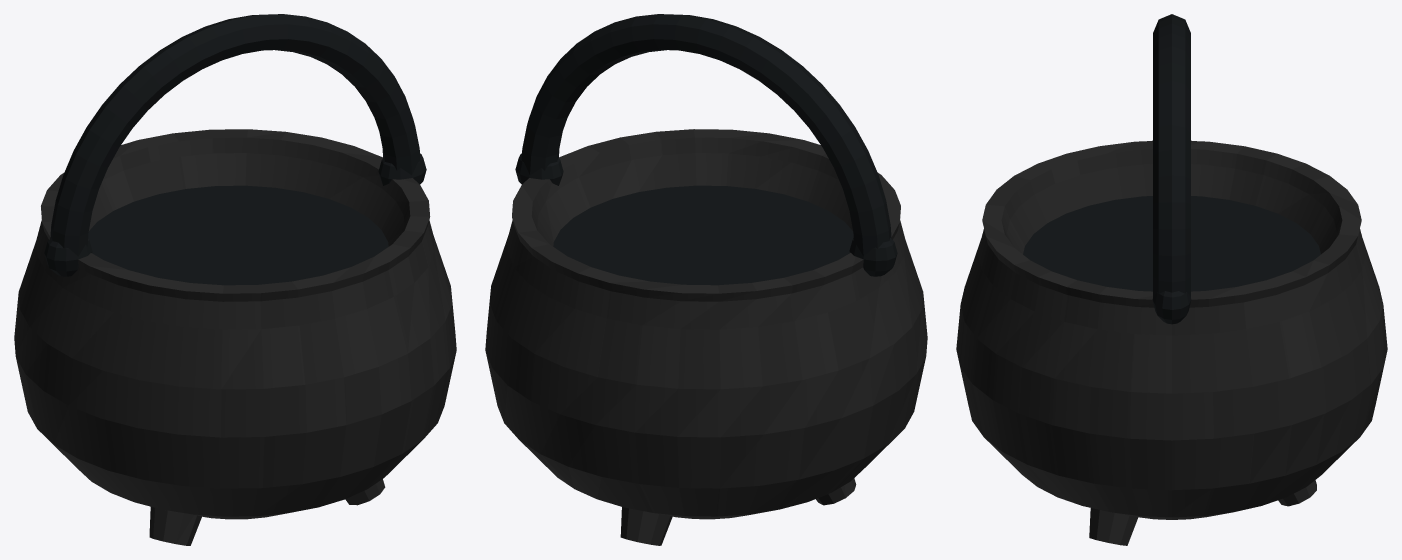
File: EVHalloween_WitchCauldron.fbx
The picture shows the model from 3 angles, left to right: view 1: azimuth 30°, elevation 25°; view 2: azimuth 150°, elevation 25°; view 3: azimuth 270°, elevation 25°; orthographic projection. The views are drawn at different scales.
Parts seen in each view (by area): view 1: EVHalloween_Decor_PumpkinOrange; view 2: EVHalloween_Decor_PumpkinOrange; view 3: EVHalloween_Decor_PumpkinOrange.
Part boxes in pixels (bbox=[...]): EVHalloween_Decor_PumpkinOrange: bbox=[14, 14, 456, 545]; EVHalloween_Decor_PumpkinOrange: bbox=[485, 14, 927, 545]; EVHalloween_Decor_PumpkinOrange: bbox=[956, 14, 1387, 545].
Bounding box in the file's own units: 40 × 48.02 × 40.
